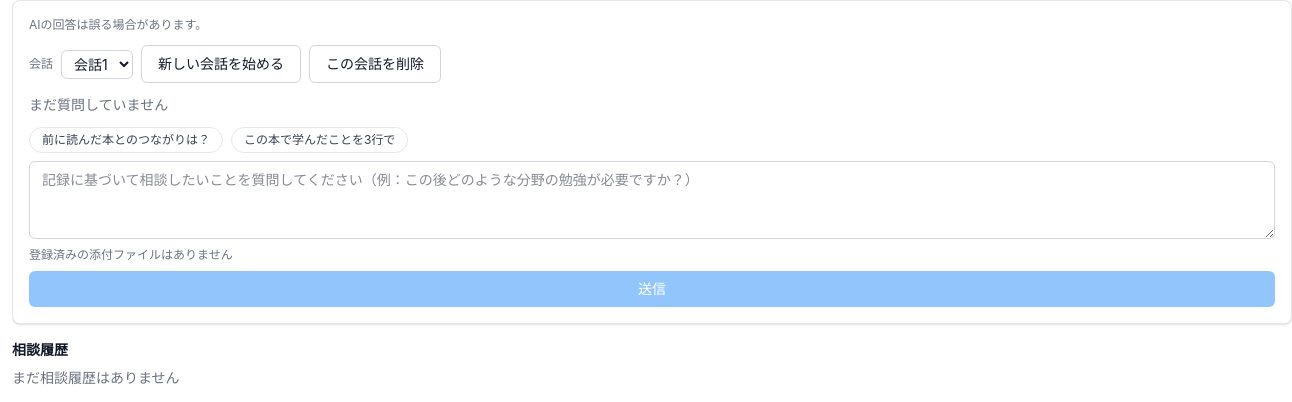
GoalConsultationTab › 質問例ボタンは目標の種類ごとに異なり、クリックで入力欄に差し込まれる（送信はしない）
The width and height of the screenshot is (1292, 402).
Click the button "前に読んだ本とのつながりは？" at (126, 140), box [29, 127, 223, 153]
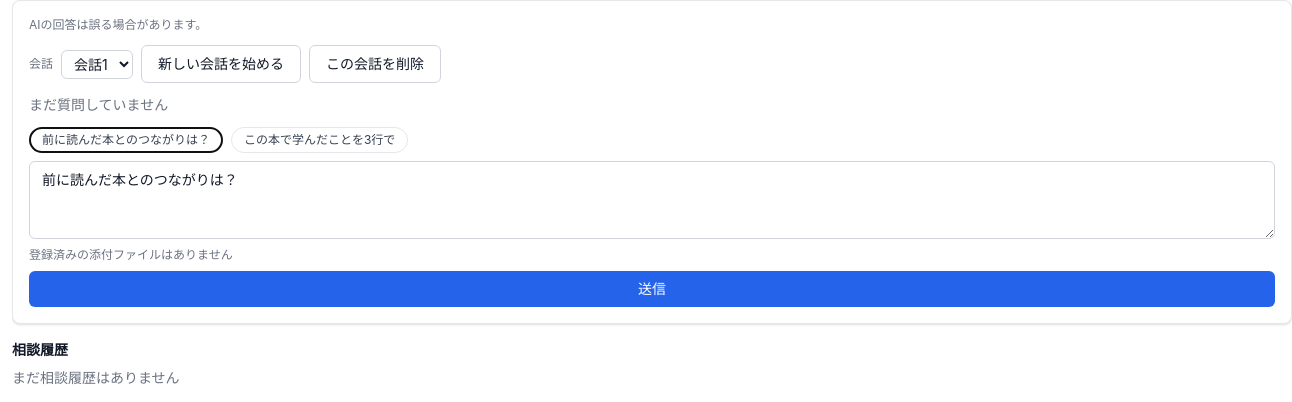
Check: the text box named "記録に基づいて相談したいことを質問してください（例：この後どのような分野の勉強が必要ですか？）" holds "前に読んだ本とのつながりは？", box [29, 161, 1275, 239]
